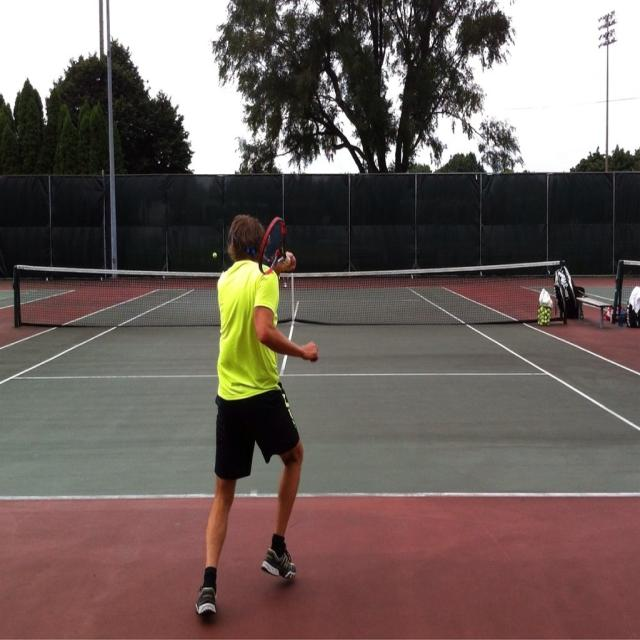ball: (211, 252, 218, 260)
